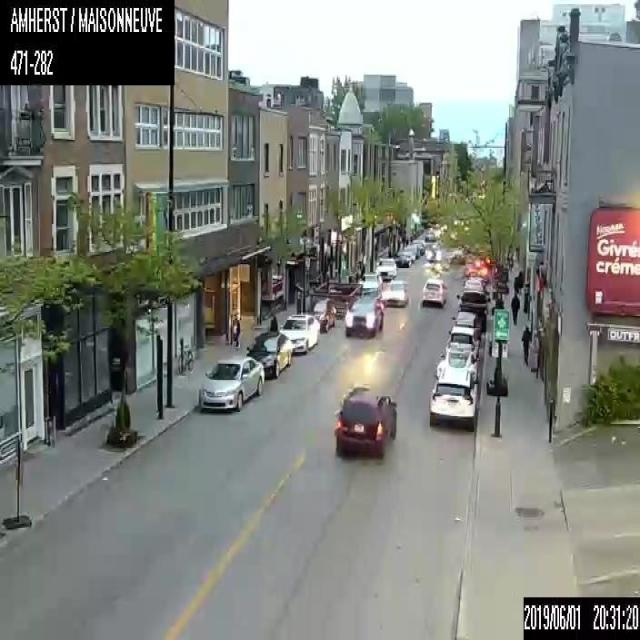pedestrian: (519, 324, 532, 363), (509, 293, 519, 325), (232, 314, 239, 346), (517, 270, 523, 292), (269, 312, 276, 328), (513, 276, 518, 294)
vehicle: (333, 381, 396, 460), (198, 356, 264, 410), (429, 368, 478, 430), (246, 330, 292, 377), (278, 313, 319, 354), (344, 296, 384, 337), (435, 342, 479, 379), (456, 290, 490, 326), (446, 326, 479, 357), (308, 298, 334, 330), (451, 310, 480, 338), (421, 277, 447, 306), (384, 278, 407, 305), (358, 271, 382, 295), (375, 256, 395, 278), (463, 278, 484, 291), (426, 246, 442, 262), (409, 238, 424, 254), (450, 250, 465, 265), (401, 249, 415, 262), (404, 244, 419, 256), (395, 254, 410, 266)
